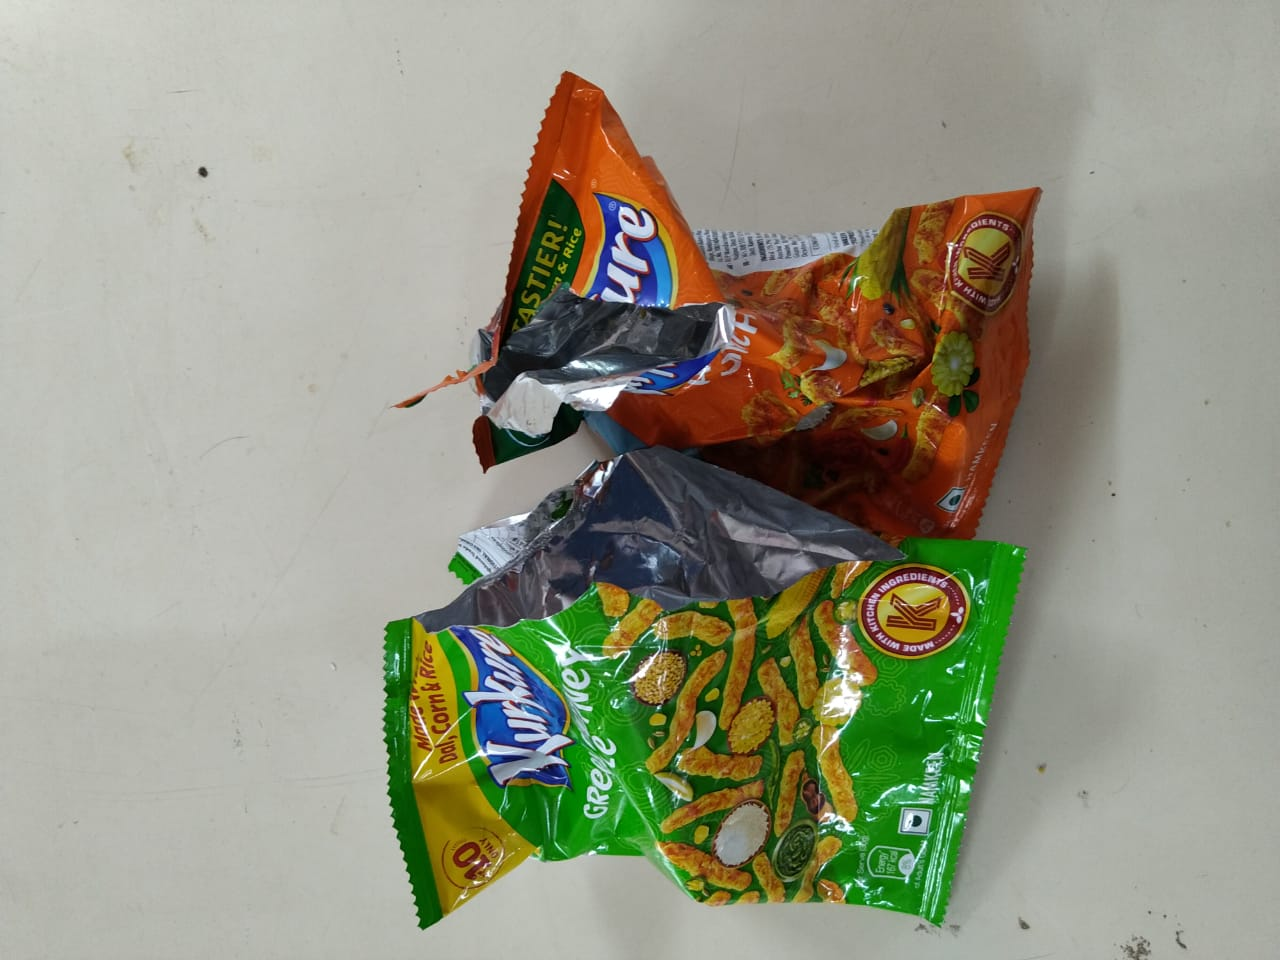kurkure: (533, 177, 739, 409), (489, 243, 693, 447), (457, 539, 593, 741), (467, 573, 569, 821)
wrapper: (437, 51, 1053, 543), (407, 483, 1003, 933)
